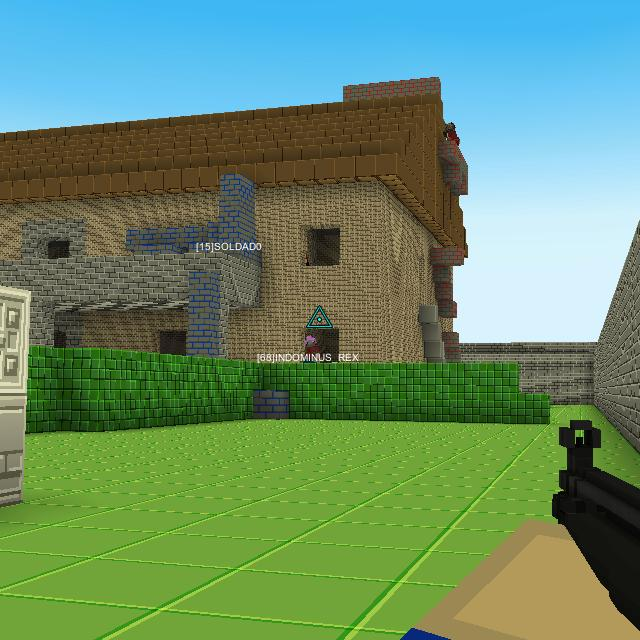enemy: (443, 120, 460, 146), (306, 334, 316, 354), (306, 253, 309, 266)
